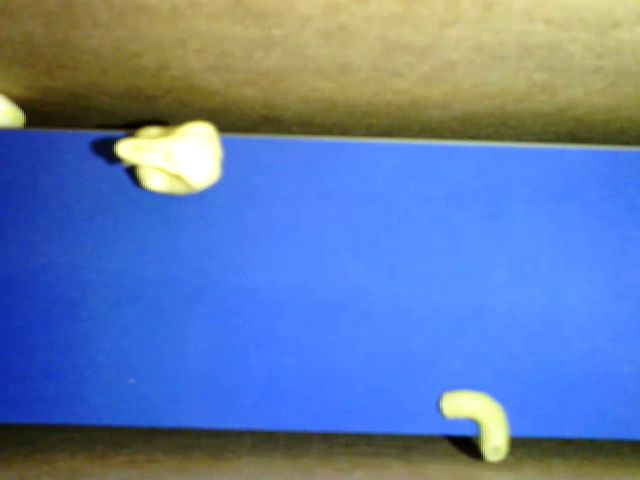elbow: (439, 390, 510, 462)
tortellini: (114, 118, 224, 194)
